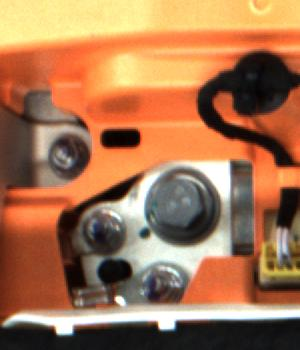nut_b: (143, 162, 221, 252)
screw_s: (44, 133, 102, 187), (76, 209, 130, 250), (144, 272, 178, 301)
